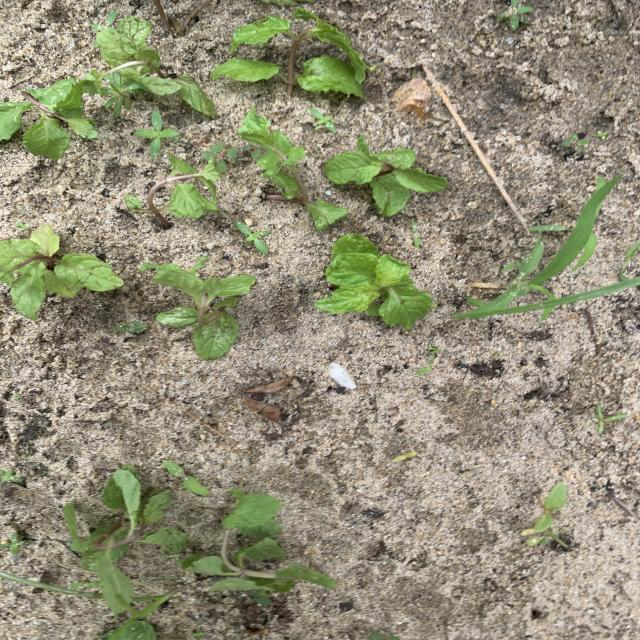crop: (65, 467, 182, 614), (179, 489, 335, 591), (211, 2, 367, 96), (95, 16, 215, 115), (245, 117, 347, 229), (0, 225, 122, 318), (314, 234, 434, 327), (143, 261, 255, 359), (326, 135, 447, 215), (1, 78, 97, 159), (124, 153, 221, 227)
weed: (454, 176, 620, 318), (103, 592, 171, 639), (521, 482, 567, 547), (136, 111, 179, 155), (102, 74, 142, 116), (162, 460, 210, 495), (497, 0, 532, 31), (202, 143, 239, 169), (237, 222, 268, 252), (594, 405, 627, 433), (559, 132, 589, 160), (620, 242, 639, 279), (1, 532, 30, 554), (311, 108, 335, 131), (248, 589, 271, 605), (117, 321, 147, 333), (1, 469, 23, 483), (369, 631, 399, 639), (427, 346, 439, 361), (393, 453, 415, 461), (415, 366, 431, 375), (595, 131, 607, 139), (192, 631, 204, 639), (14, 222, 27, 229)
